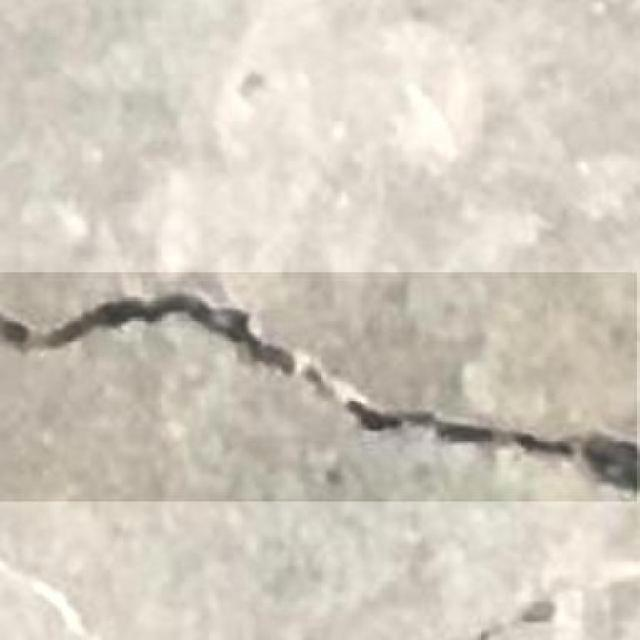crack: (0, 268, 640, 508)
